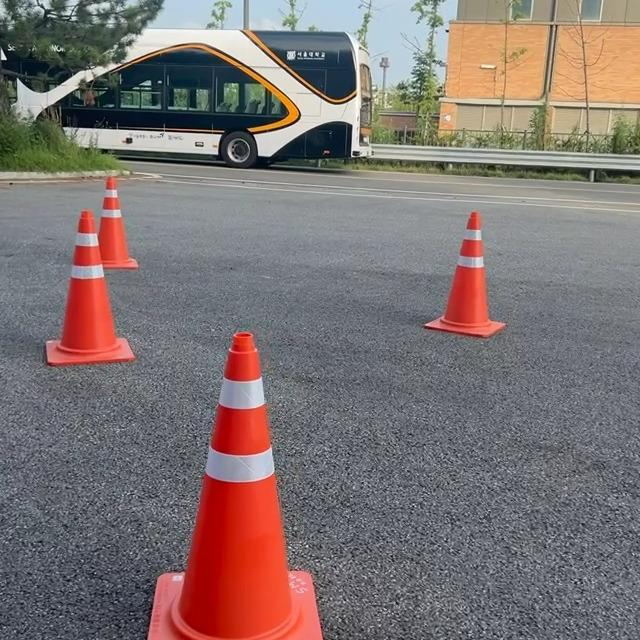fallen_object: (146, 313, 350, 638), (0, 196, 144, 381), (406, 173, 553, 349), (65, 153, 178, 285)
